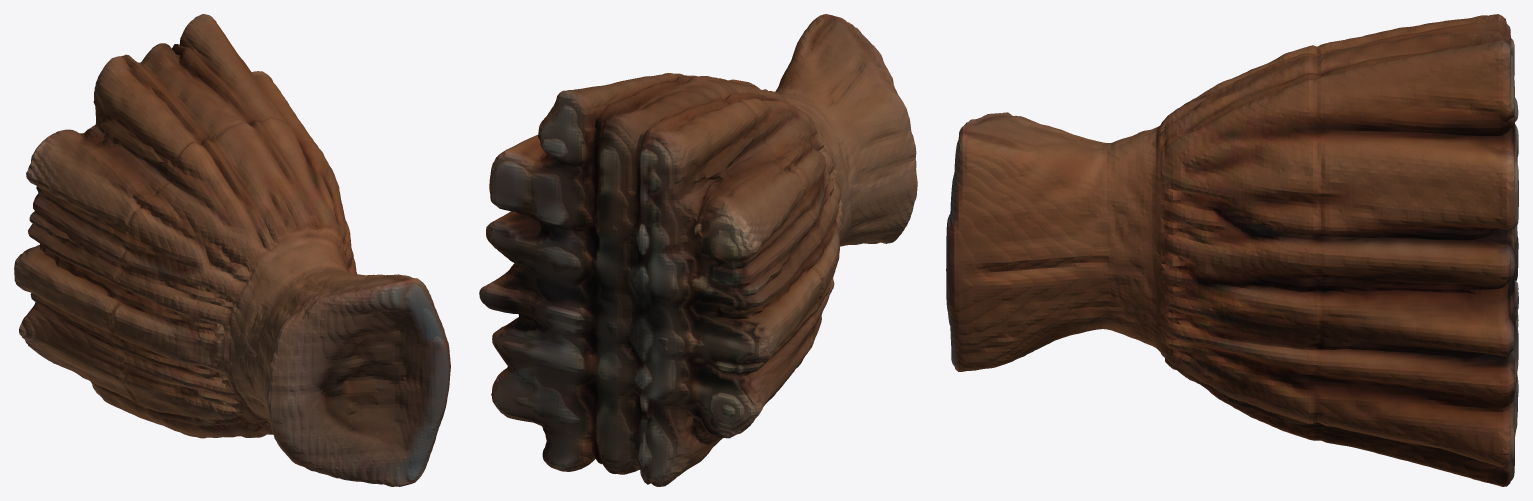
The picture shows the model from 3 angles, left to right: view 1: azimuth 30°, elevation 25°; view 2: azimuth 150°, elevation 25°; view 3: azimuth 270°, elevation 25°; orthographic projection. The views are drawn at different scales.
Bounding box in the file's own units: 0.6245 × 0.7945 × 0.9483.
